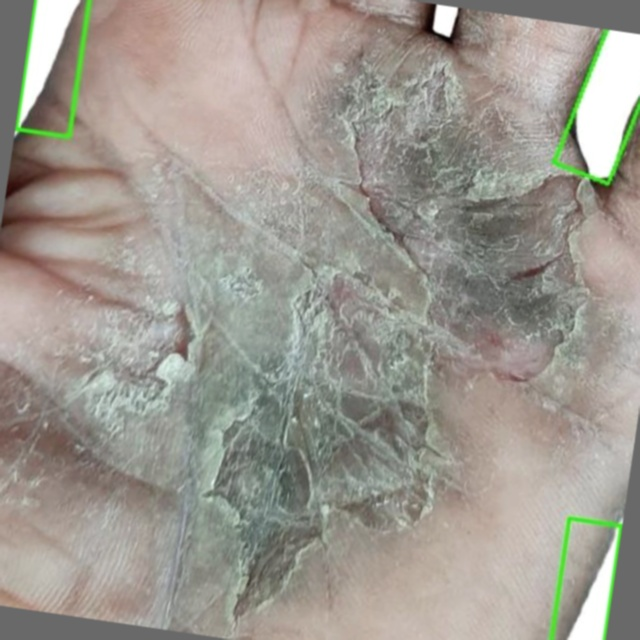Contact Dermatitis: (554, 29, 639, 183), (15, 0, 89, 137), (551, 518, 621, 639)
